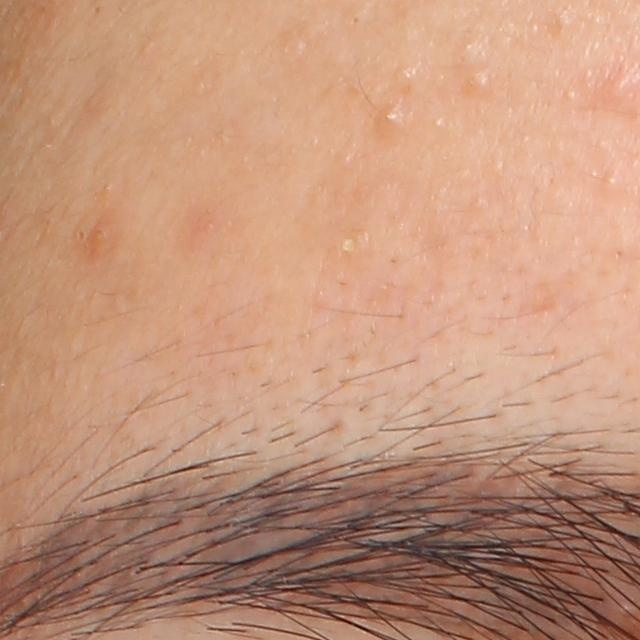comedo: (341, 3, 369, 39), (462, 66, 493, 94), (395, 61, 425, 89)
